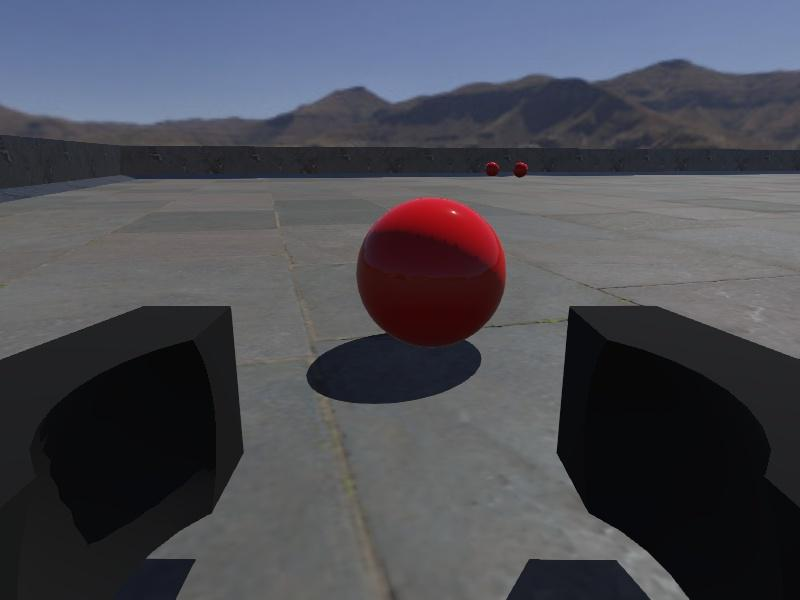red ball: (355, 195, 506, 349), (512, 161, 528, 177), (485, 161, 500, 177)
